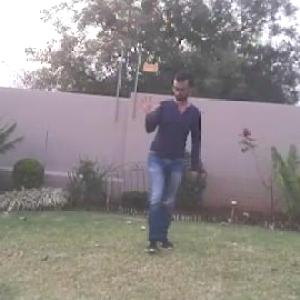follow_hand: (134, 91, 160, 117)
